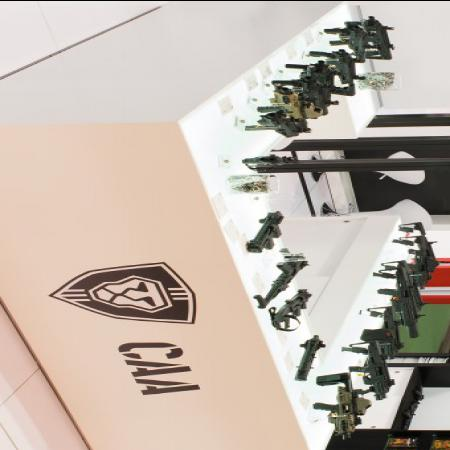Pistol: (292, 332, 328, 379)
